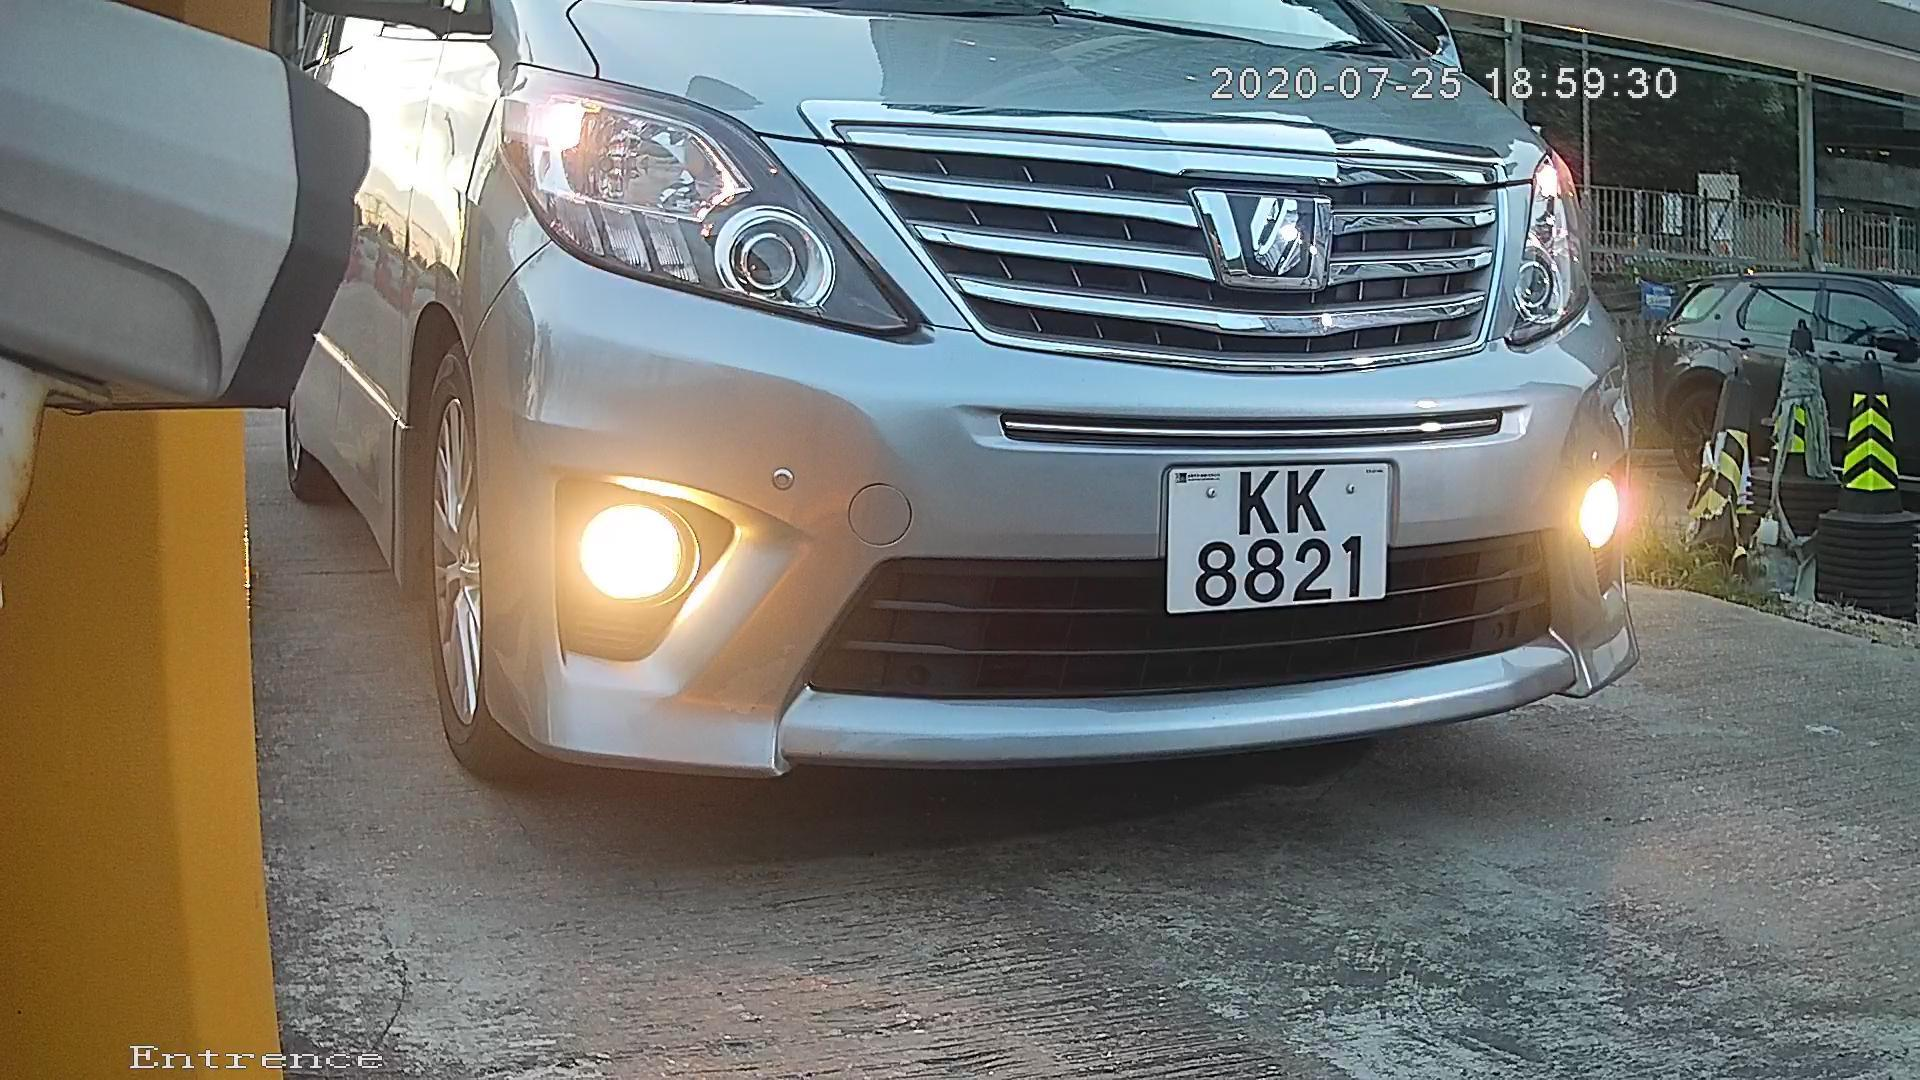privatecar: (301, 5, 1741, 825)
